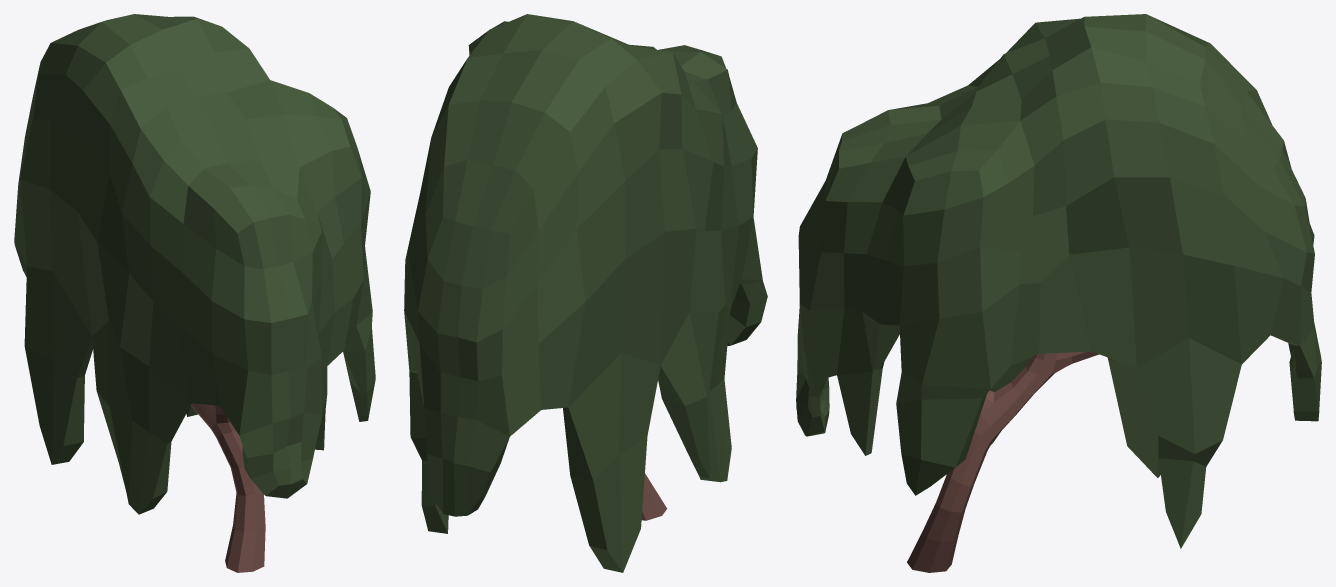
Rendered from Willow_1.glb.
The picture shows the model from 3 angles, left to right: view 1: azimuth 30°, elevation 25°; view 2: azimuth 150°, elevation 25°; view 3: azimuth 270°, elevation 25°; orthographic projection. The views are drawn at different scales.
Parts seen in each view (by area): view 1: Willow_1; view 2: Willow_1; view 3: Willow_1.
Part boxes in pixels (x1,y1,x2,y2): Willow_1: [14, 14, 375, 572]; Willow_1: [404, 14, 767, 572]; Willow_1: [796, 14, 1321, 572].
Bounding box in the file's own units: 1.45 × 2.85 × 2.55.
